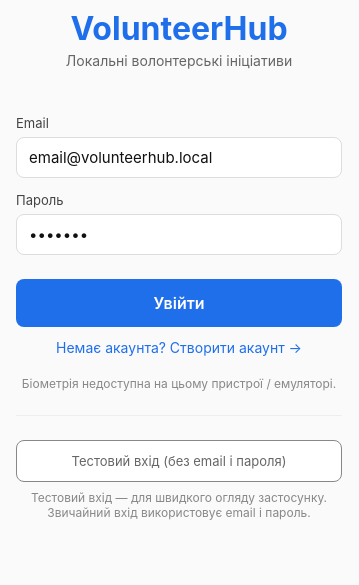
Phase 6 — LoginScreen › LOG1: requires email and password before submit
This screenshot has width=359, height=585.
Click the element with test id "login-submit": (179, 303) [16,279,342,327]
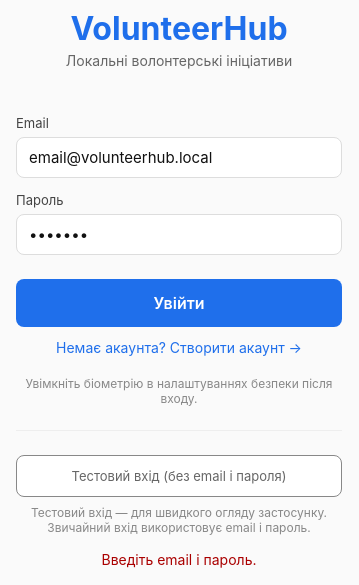
Expected: the text with test id "login-error" shows "email і пароль", [102,551,256,568]
